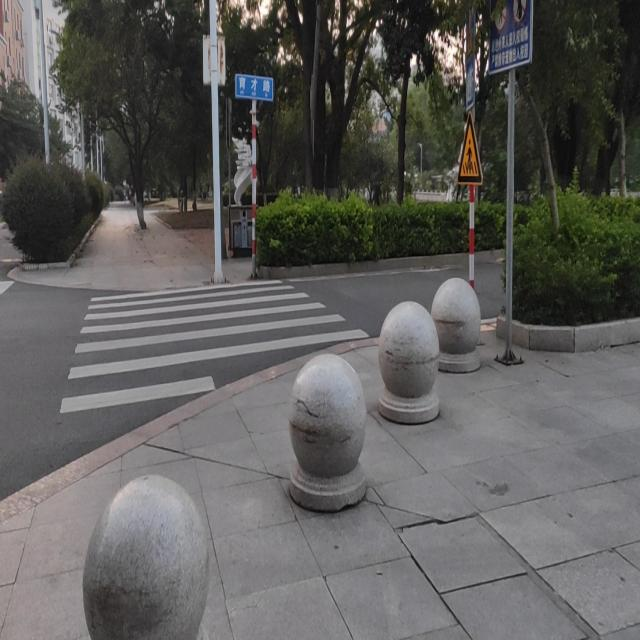ash bin: (228, 203, 260, 257)
pole: (206, 8, 227, 278), (500, 86, 519, 357), (36, 1, 50, 155)
spherical_roadblock: (83, 472, 211, 639), (286, 352, 368, 508), (377, 300, 440, 421), (432, 275, 483, 372)
warning_column: (249, 99, 258, 278), (467, 186, 478, 283)
